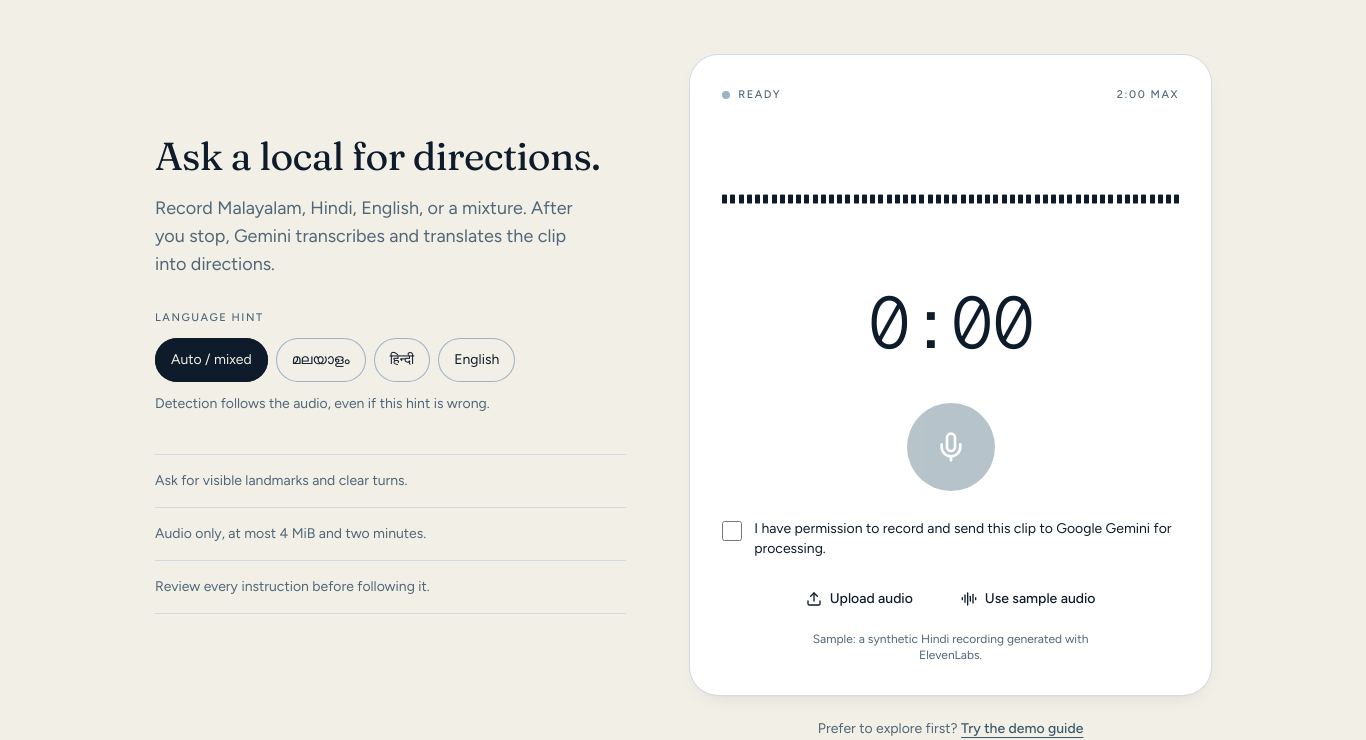
Test: bundled sample clip on the record screen › loads through the shared validation and still needs consent to process
Click the button "Use sample audio". click: click(1028, 599)
box: [941,575,1116,623]
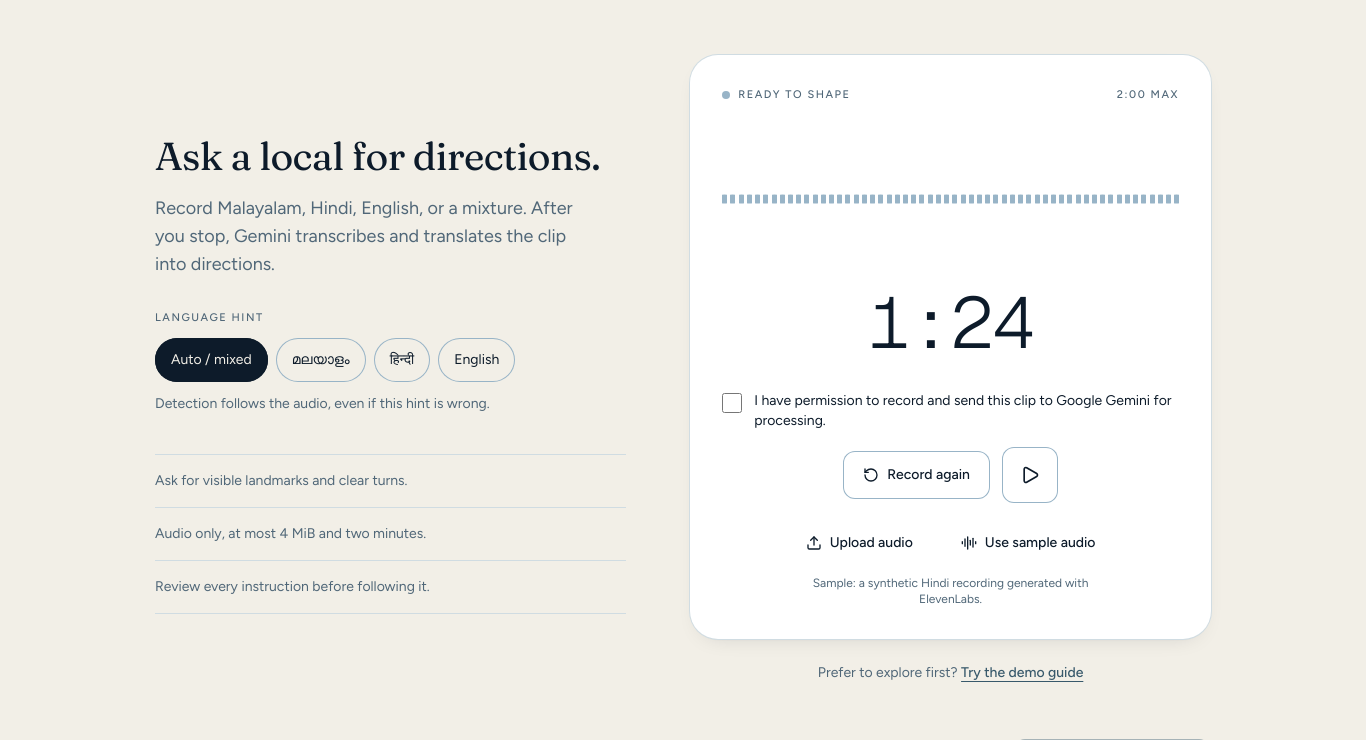
Check: the text "1:24" is shown, box [868,276,1033,369]
Click the checkbox labelled "permission to record and send". click: click(732, 403)
box: [722,393,742,413]
(page scrolled)
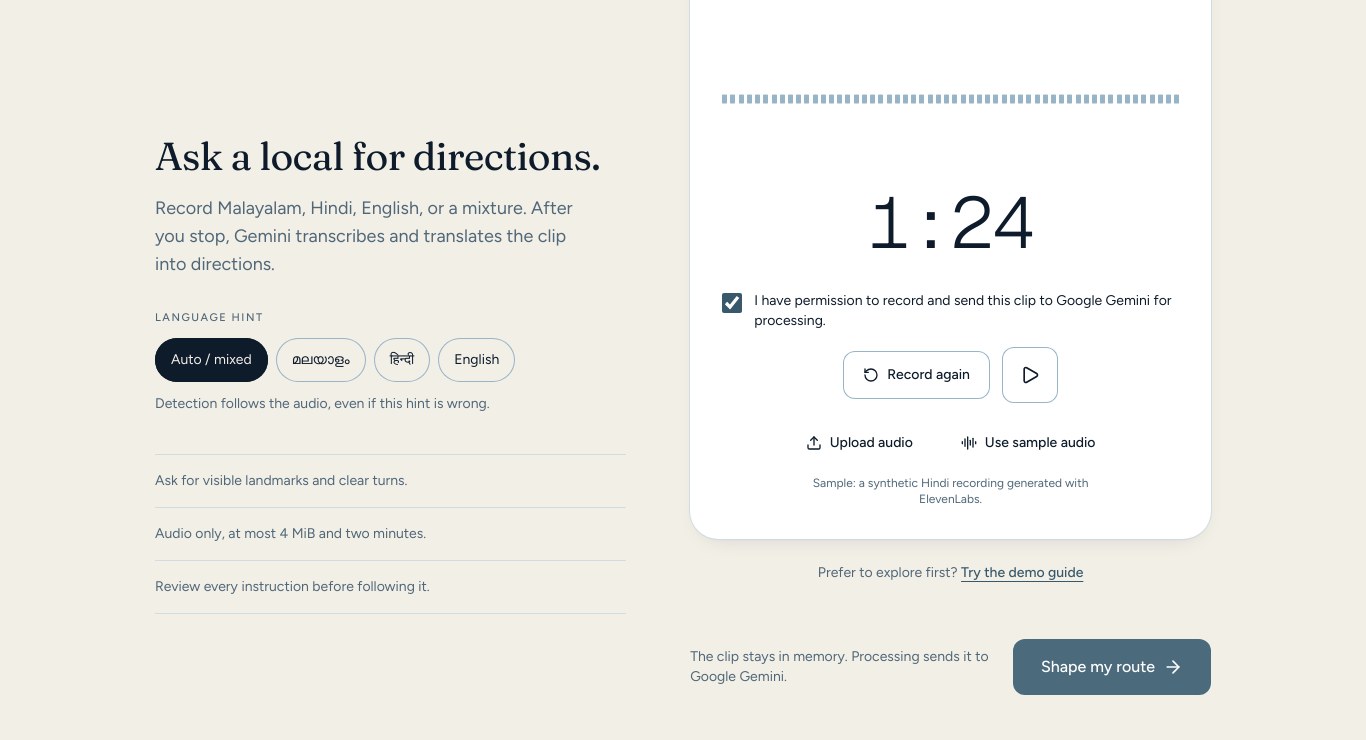
Check: the button "Shape my route" is enabled, box [1013,639,1211,695]
